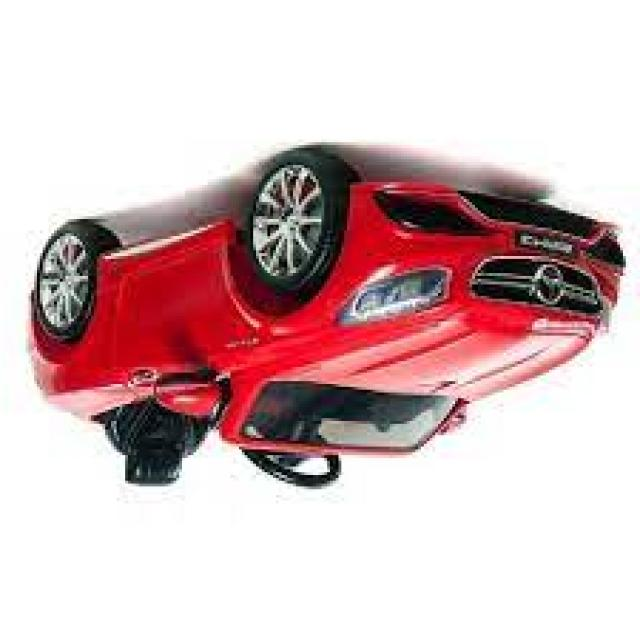Car: (29, 148, 628, 492)
